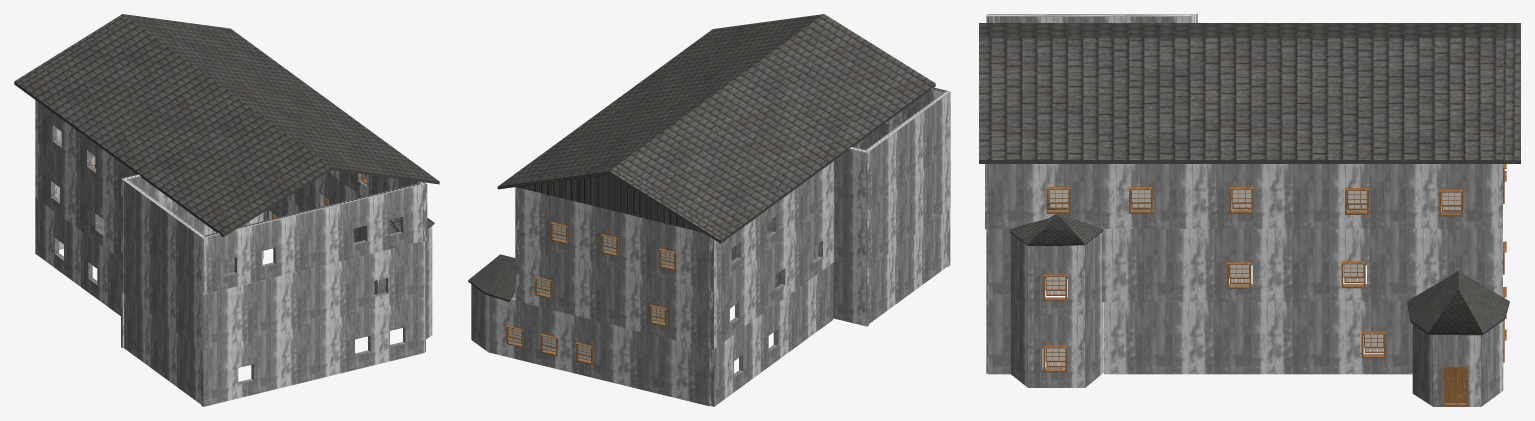
Rendered from casa-fora.fbx.
3 views of the same model, side by side, from view 1: azimuth 30°, elevation 25°; view 2: azimuth 150°, elevation 25°; view 3: azimuth 270°, elevation 25° (orthographic). The views are drawn at different scales.
Visible parts, largest first — view 1: Cube.007, Cube.096, Cube.099, Cube.075, Cube.098, Cube.078, Cube.097, Cube.080, Cube.050, Cube.102, Cube.086, Cube.101 (+4 smaller); view 2: Cube.007, Cube.054, Cube.083, Cube.107, Cube.097, Cube.078, Cube.102, Cube.098, Cube.080, Cube.050, Cube.053, Cube.061 (+4 smaller); view 3: Cube.007, Cube.101, Cube.086, Cube.077, Cube.001, Cube.060, Cube.095, Cube.073, Cube.002, Cube.098, Cube.059, Cube.094 (+17 smaller).
Part boxes in pixels (<box>): Cube.007: <box>14,14,439,236</box>; Cube.096: <box>203,241,424,350</box>; Cube.099: <box>204,183,424,294</box>; Cube.075: <box>201,296,424,406</box>; Cube.098: <box>123,179,205,294</box>; Cube.078: <box>35,197,120,315</box>; Cube.097: <box>35,142,120,259</box>; Cube.080: <box>123,237,202,350</box>; Cube.050: <box>124,294,200,404</box>; Cube.102: <box>35,100,136,203</box>; Cube.086: <box>287,172,364,242</box>; Cube.101: <box>329,170,427,241</box>; Cube.007: <box>497,14,935,243</box>; Cube.054: <box>489,296,710,406</box>; Cube.083: <box>519,244,709,348</box>; Cube.107: <box>519,188,709,290</box>; Cube.097: <box>710,204,834,349</box>; Cube.078: <box>710,263,833,406</box>; Cube.102: <box>710,161,834,291</box>; Cube.098: <box>865,91,950,208</box>; Cube.080: <box>869,150,950,266</box>; Cube.050: <box>869,211,947,323</box>; Cube.053: <box>731,245,868,326</box>; Cube.061: <box>767,203,869,269</box>; Cube.007: <box>979,23,1520,163</box>; Cube.101: <box>985,164,1502,229</box>; Cube.086: <box>1101,229,1502,302</box>; Cube.077: <box>1104,301,1412,374</box>; Cube.001: <box>1407,271,1509,335</box>; Cube.060: <box>1028,314,1084,387</box>; Cube.095: <box>1028,245,1084,315</box>; Cube.073: <box>1433,335,1480,406</box>; Cube.002: <box>1009,199,1103,245</box>; Cube.098: <box>987,14,1191,22</box>; Cube.059: <box>988,301,1010,374</box>; Cube.094: <box>988,229,1010,301</box>.
Size of the model in its own units: 3551 by 2584 by 4629.
38 materials, 20 textured.
